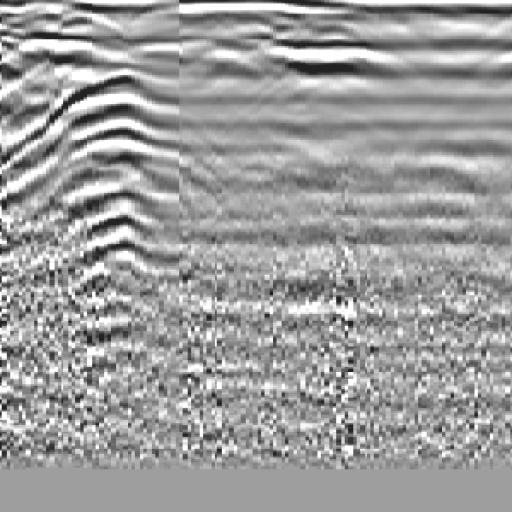metalic: (1, 63, 235, 363)
